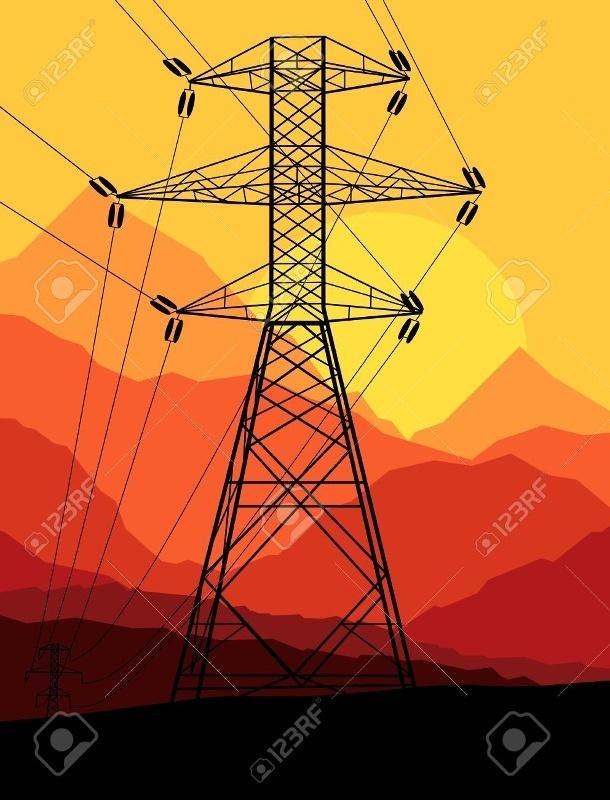power_tower: (95, 19, 497, 691)
